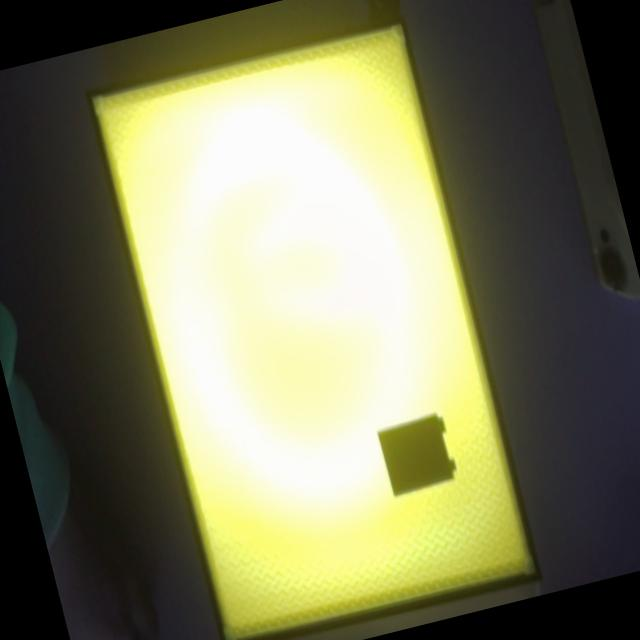bateria: (377, 414, 456, 491)
mesa: (85, 12, 541, 640)
